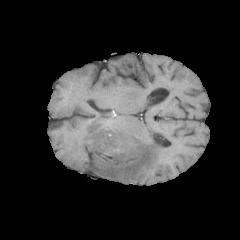glioma: (83, 121, 191, 180)
